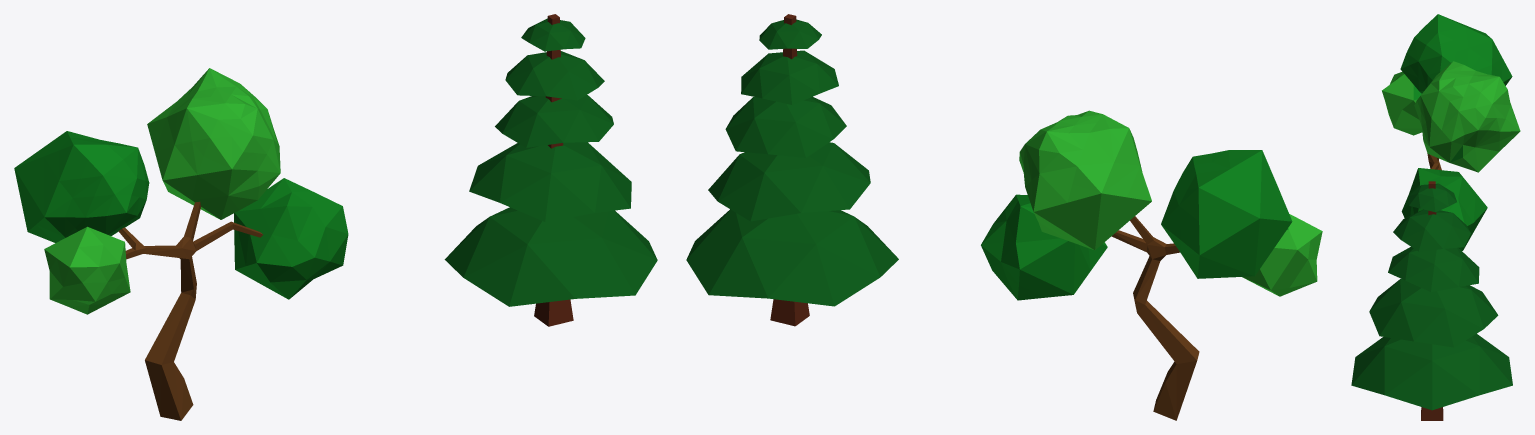
Rendered from Tree.fbx.
3 views of the same model, side by side, from view 1: azimuth 30°, elevation 25°; view 2: azimuth 150°, elevation 25°; view 3: azimuth 270°, elevation 25° (orthographic). The views are drawn at different scales.
Visible parts, largest first — view 1: Icosphere.004, Icosphere.005, Cube; view 2: Icosphere.004, Icosphere.005, Cube; view 3: Icosphere.005, Icosphere.004.
Part boxes in pixels (left/top/right/bottom): Icosphere.004: left=14, top=68, right=348, bottom=314; Icosphere.005: left=444, top=14, right=657, bottom=326; Cube: left=118, top=201, right=263, bottom=420; Icosphere.004: left=981, top=110, right=1322, bottom=300; Icosphere.005: left=686, top=14, right=898, bottom=326; Cube: left=1111, top=216, right=1199, bottom=420; Icosphere.005: left=1351, top=181, right=1512, bottom=420; Icosphere.004: left=1382, top=14, right=1520, bottom=250.
Size of the model in its own units: 867 by 417 by 269.
